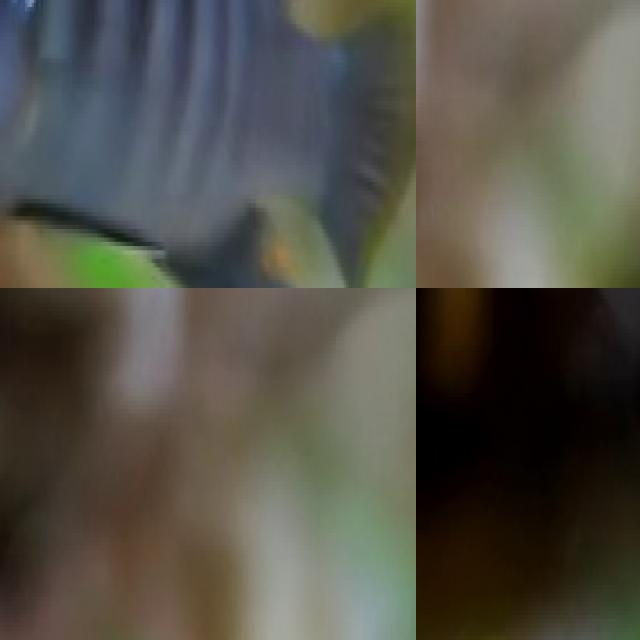fish: (0, 0, 416, 288), (416, 288, 640, 623)
